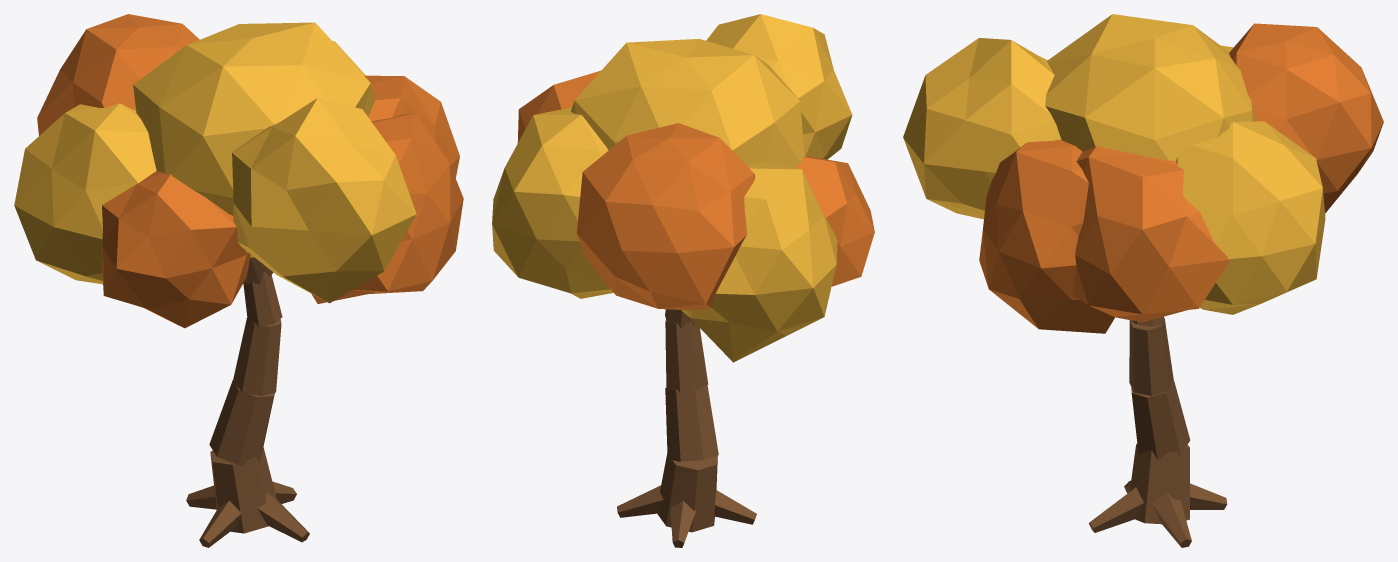
Rendered from nat_autumn_v01.glb.
3 views of the same model, side by side, from view 1: azimuth 30°, elevation 25°; view 2: azimuth 150°, elevation 25°; view 3: azimuth 270°, elevation 25° (orthographic). The views are drawn at different scales.
Parts seen in each view (by area): view 1: tree; view 2: tree; view 3: tree.
Boxes of the visible parts, left/top/right/bottom form: tree: left=14, top=14, right=463, bottom=547; tree: left=492, top=14, right=874, bottom=547; tree: left=903, top=14, right=1383, bottom=547.
Size of the model in its own units: 4.85 by 6.06 by 5.46.
